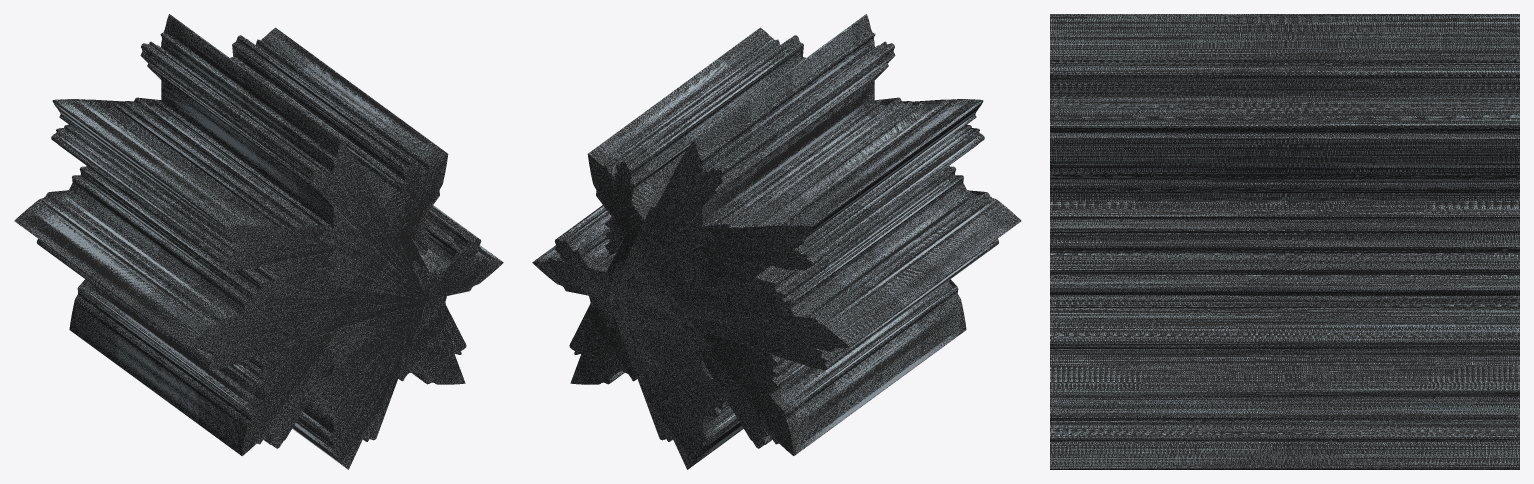
Rendered from obstacle4.fbx.
3 renders of one model, left to right at view 1: azimuth 30°, elevation 25°; view 2: azimuth 150°, elevation 25°; view 3: azimuth 270°, elevation 25°, orthographic. The views are drawn at different scales.
Visible parts, largest first — view 1: Group1, Group2; view 2: Group1, Group2; view 3: Group2, Group1.
Boxes of the visible parts, <box> form: Group1: <box>14,14,503,469</box>; Group2: <box>51,27,466,455</box>; Group1: <box>532,14,1021,469</box>; Group2: <box>569,27,984,455</box>; Group2: <box>1050,112,1519,468</box>; Group1: <box>1050,14,1519,469</box>.
Bounding box in the file's own units: 2124 × 2121 × 2000.
